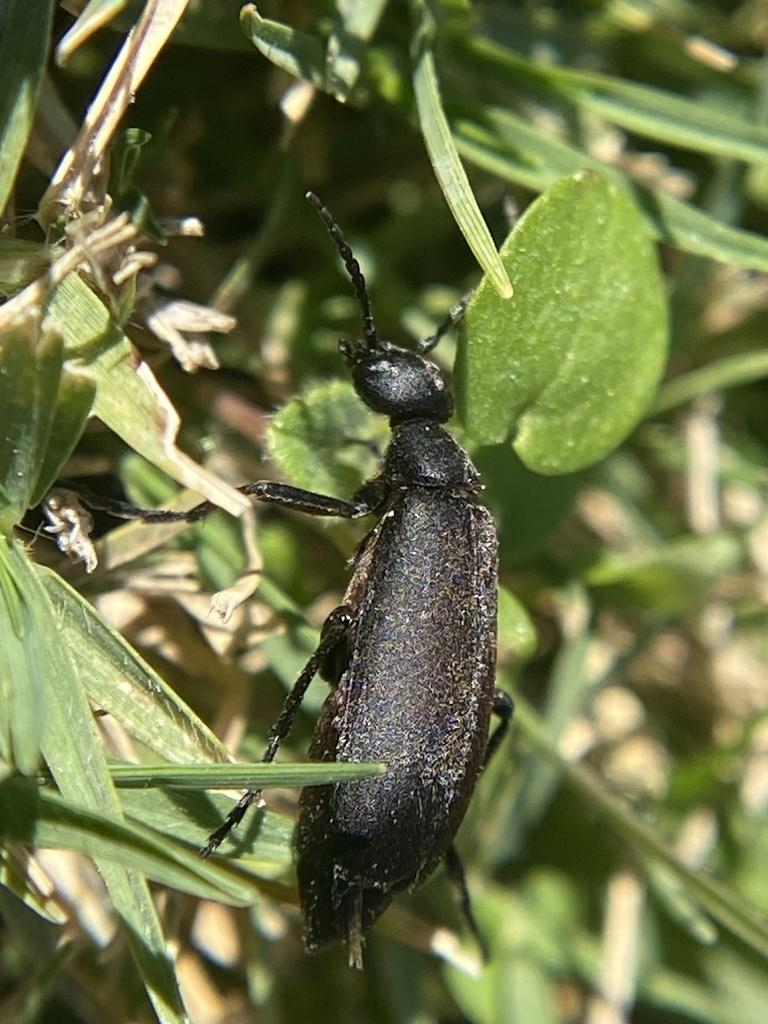blister_beetle: (0, 114, 721, 1024)
